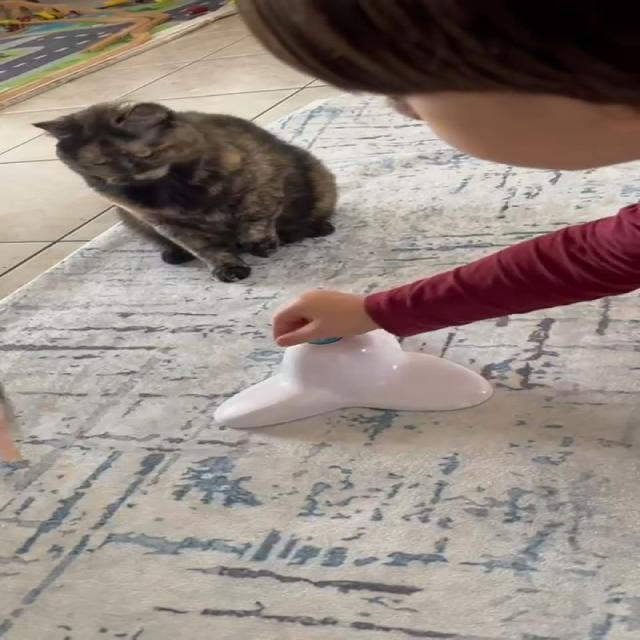authorized: (31, 100, 337, 282)
